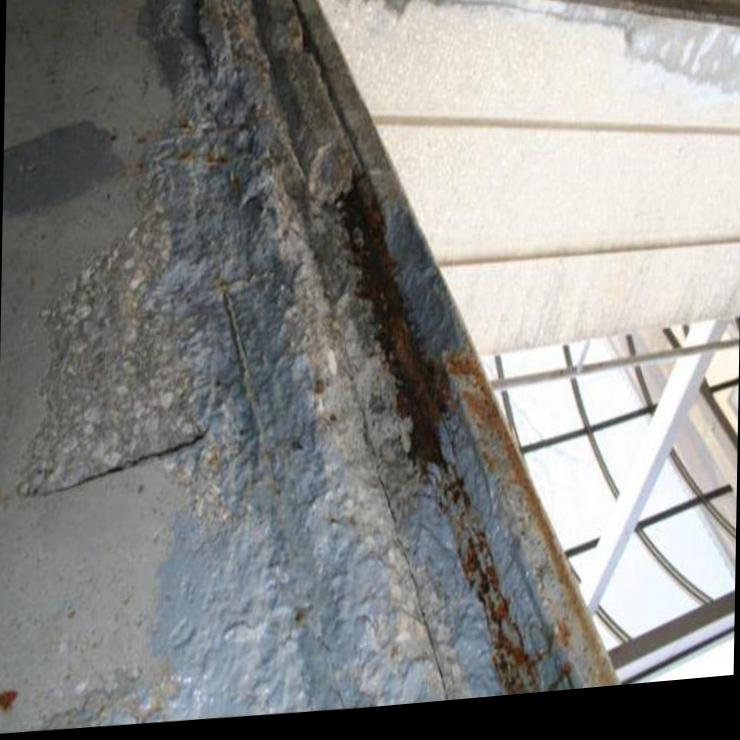damage: (15, 0, 620, 732)
